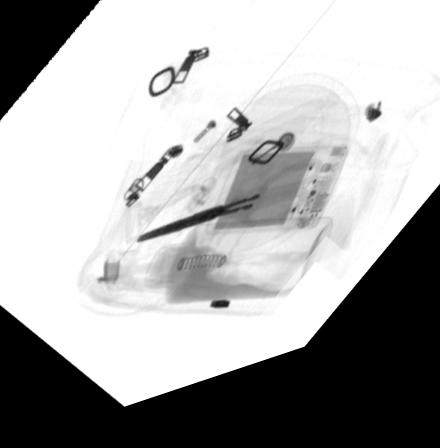Powerbank: (204, 162, 347, 252)
Scissors: (133, 177, 323, 257)
